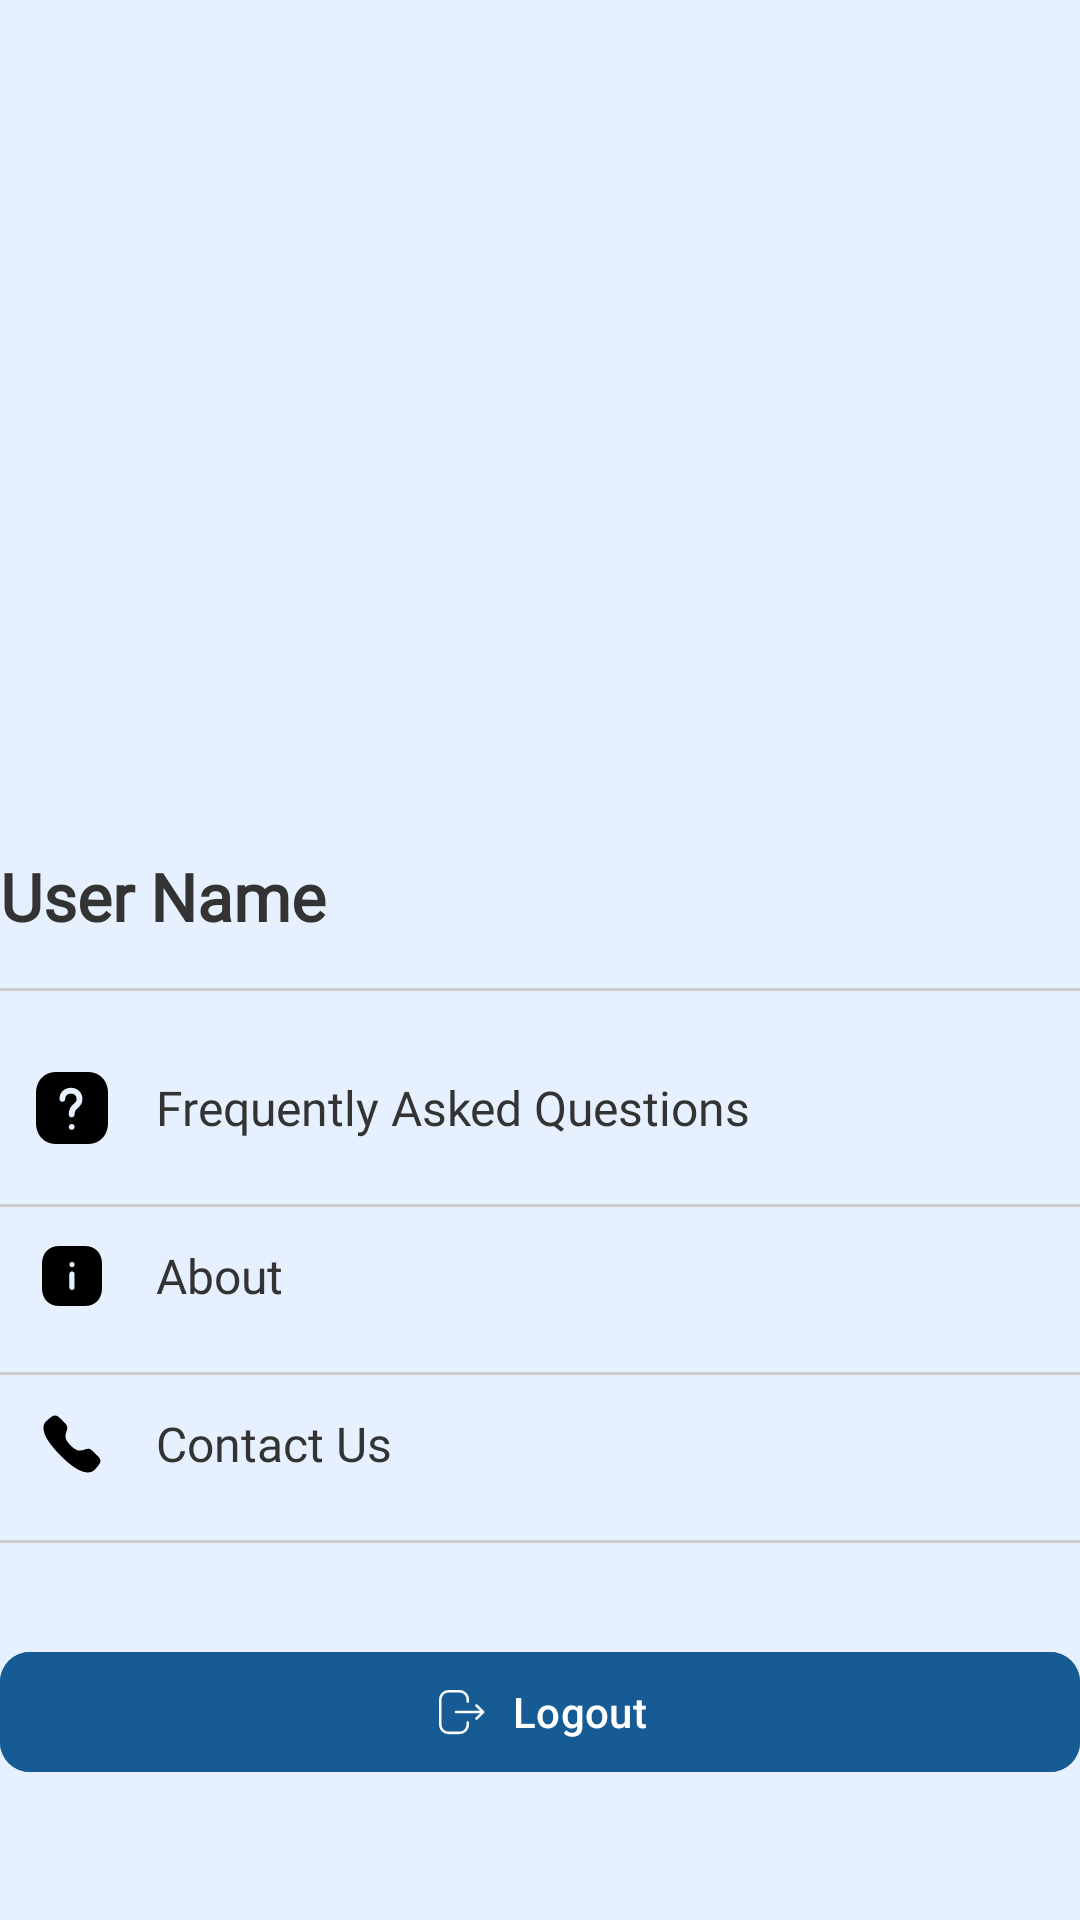

Icon click points for this 1080 x 1920 phone screenshot, format [x,y]:
call: [72,1444]
faq: [72,1108]
info: [72,1276]
